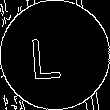L_N: (37, 29, 73, 81)
